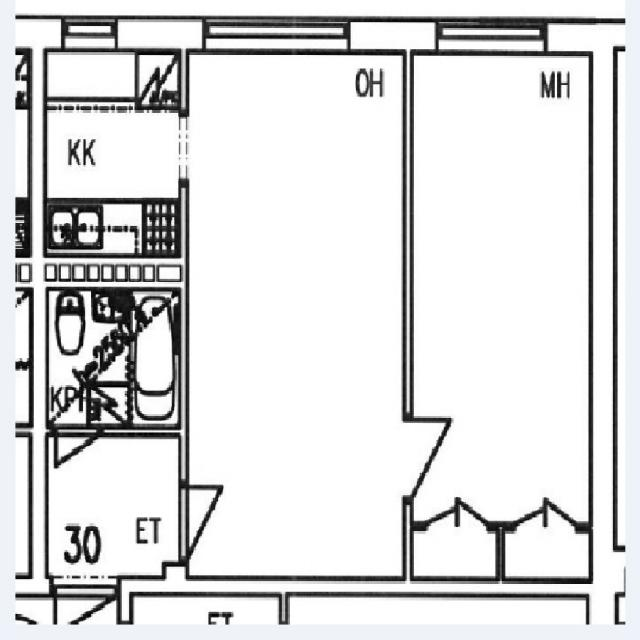door: (403, 420, 471, 497), (179, 485, 246, 562), (54, 424, 98, 495)
